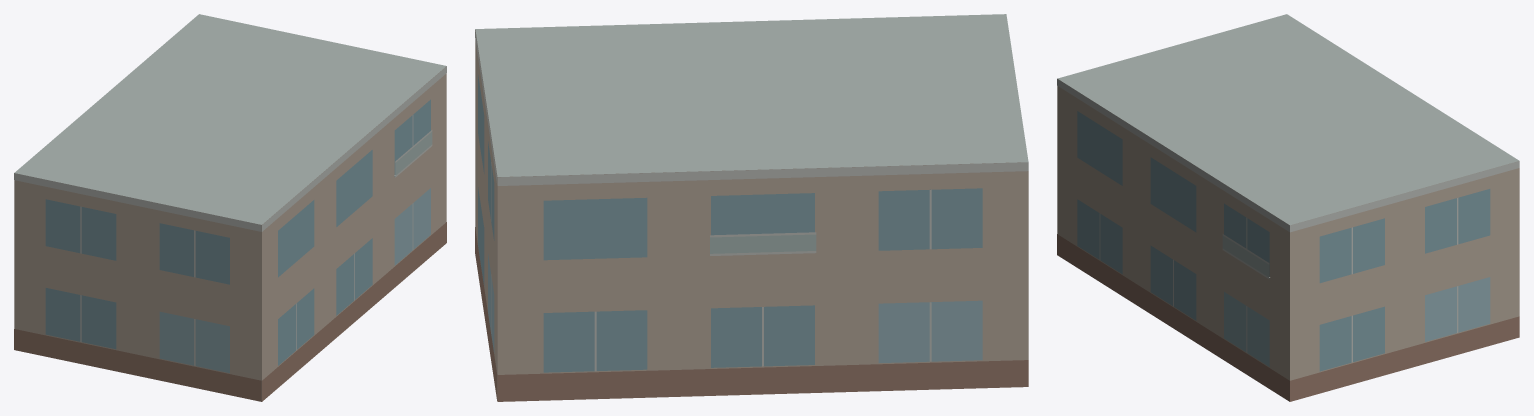
The model's file is survey-upis-32621832.glb.
The picture shows the model from 3 angles, left to right: view 1: azimuth 30°, elevation 25°; view 2: azimuth 150°, elevation 25°; view 3: azimuth 270°, elevation 25°; orthographic projection. The views are drawn at different scales.
Visible parts, largest first — view 1: survey-upis-32621832.tmp; view 2: survey-upis-32621832.tmp; view 3: survey-upis-32621832.tmp.
Part boxes in pixels (x1=…): survey-upis-32621832.tmp: x1=14, y1=14, x2=446, y2=401; survey-upis-32621832.tmp: x1=475, y1=14, x2=1028, y2=401; survey-upis-32621832.tmp: x1=1057, y1=14, x2=1519, y2=401.
Size of the model in its own units: 15.67 by 6.1 by 14.49.
